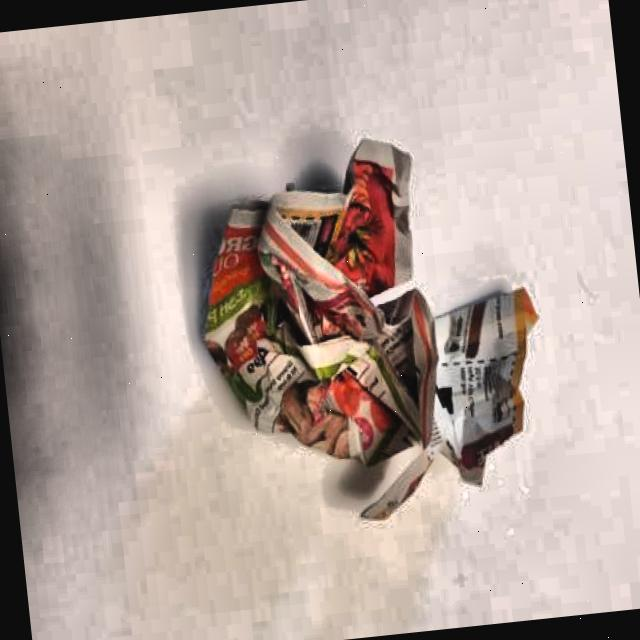paper: (189, 125, 560, 538)
